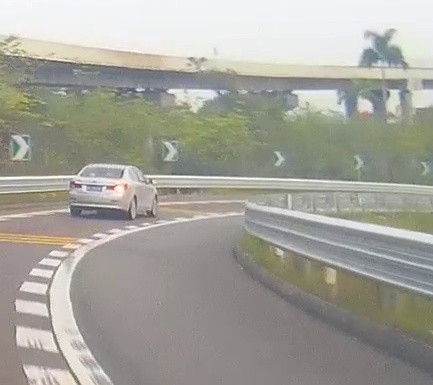L_light: (69, 181, 82, 189)
R_light: (105, 184, 128, 192)
T_light: (97, 167, 109, 170)
day-right: (68, 164, 129, 219)
